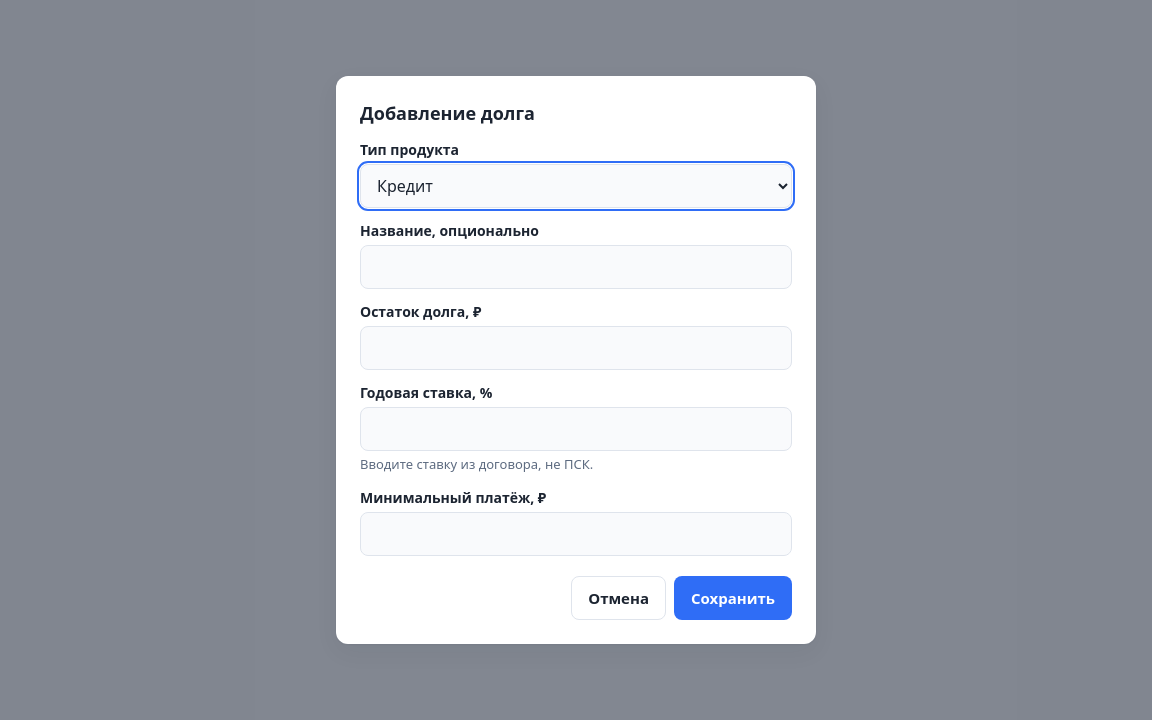
Test case: FE-007: валидация формы добавления долга › не отправляет пустую форму и показывает ошибки у обязательных полей
The image size is (1152, 720).
Click the button "Сохранить". click: (733, 598)
box: [674,576,792,620]
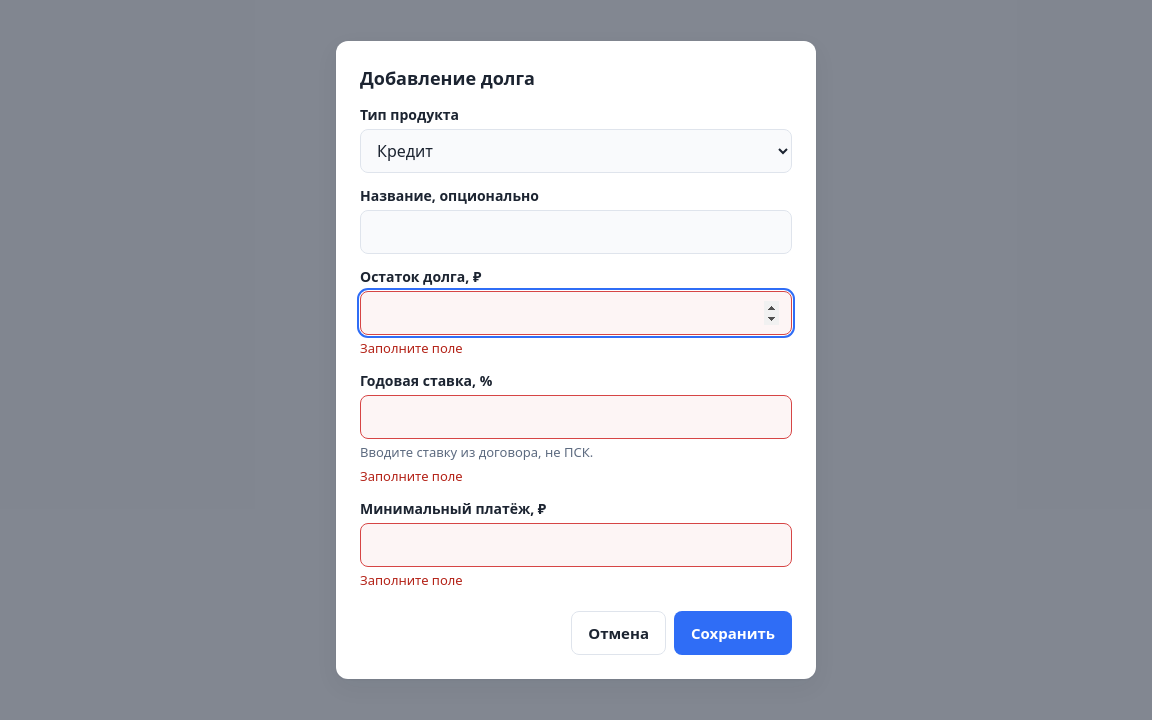
Expected: the text "Заполните поле" is shown 3 times, [360,339,463,357]; [360,467,463,485]; [360,571,463,589]
